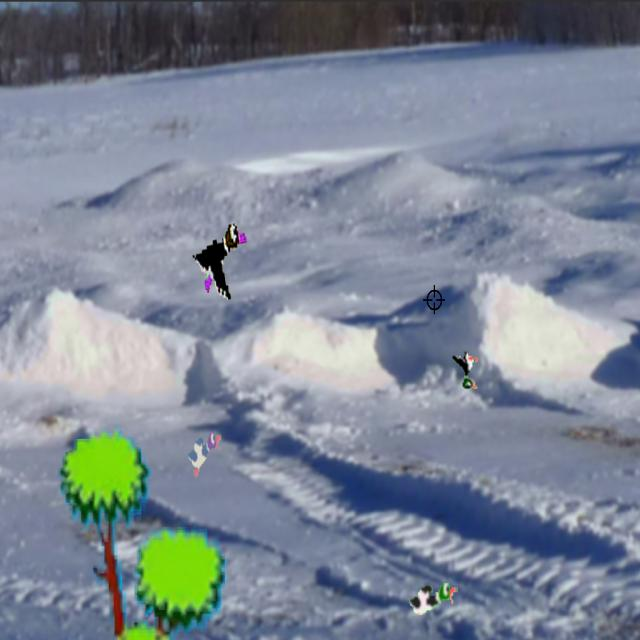duck: (181, 213, 248, 305), (403, 573, 461, 617), (184, 424, 224, 478)
falling_duck: (452, 348, 480, 398)
